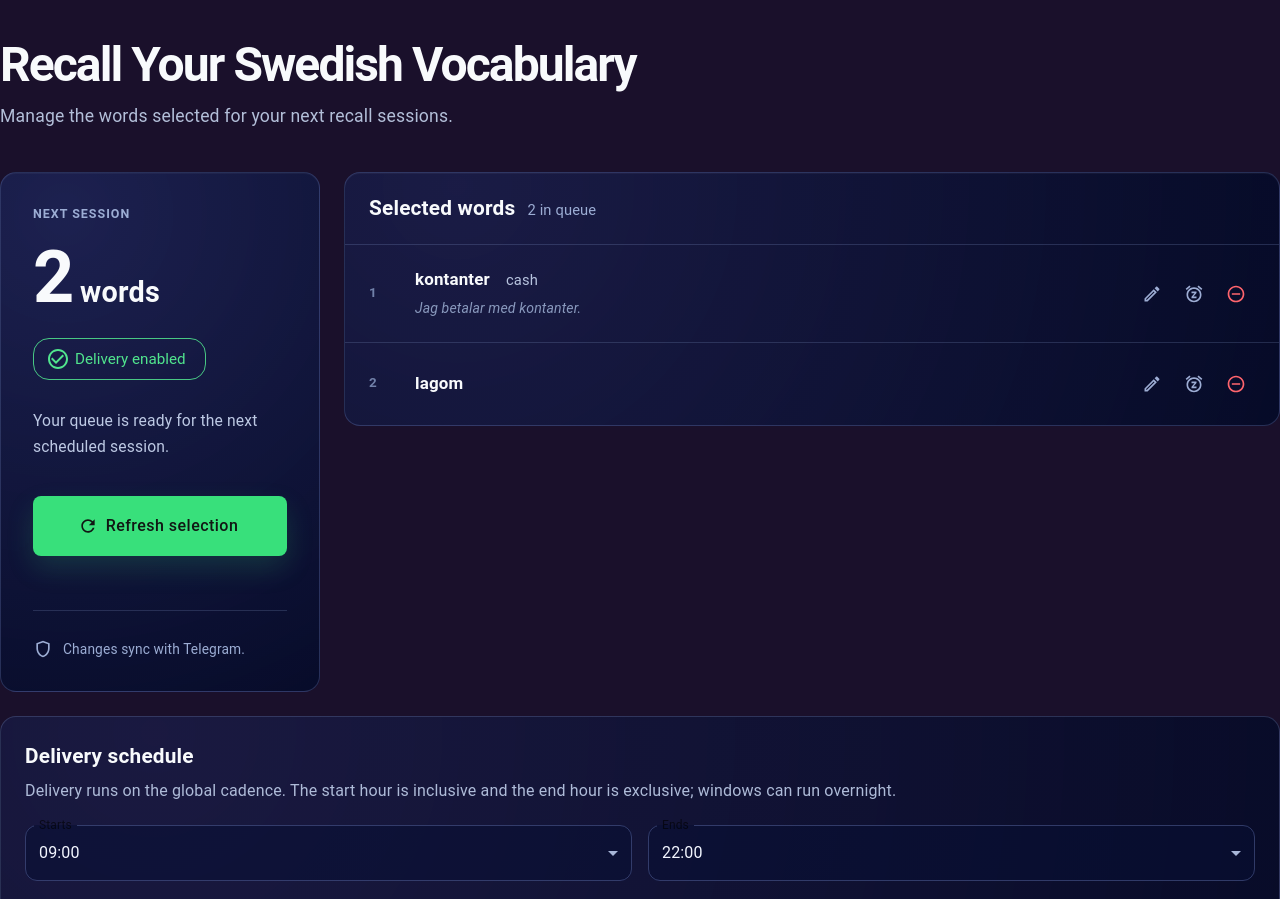
Test: RecallView › opens the edit vocabulary modal for a queued word
Click the button named "Edit kontanter".
click(1152, 294)  # box 1133,274 -> 1171,312
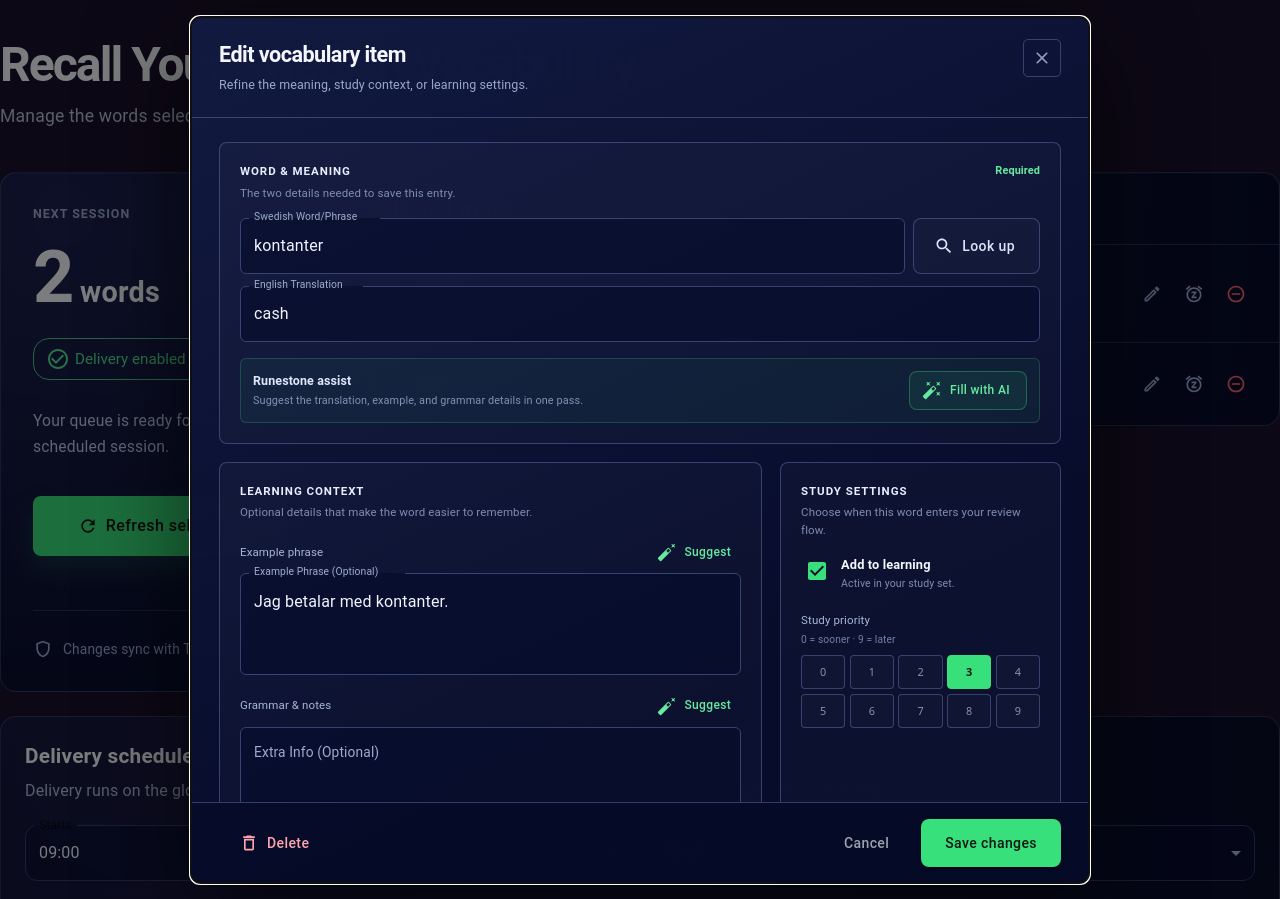
Check: the heading "Edit vocabulary item" is shown, box 219,42 -> 406,67
Check: the field showing "kontanter" is shown, box 240,218 -> 905,274
Check: the field showing "cash" is shown, box 240,286 -> 1040,342
